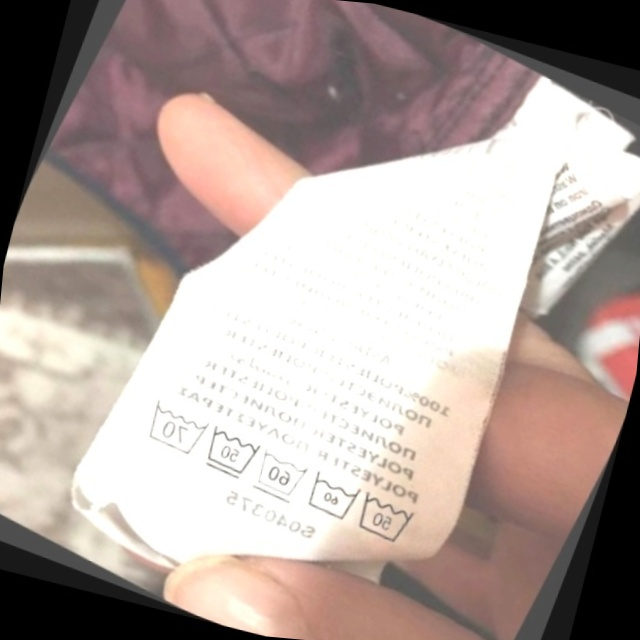50C: (340, 476, 430, 559), (188, 413, 271, 492)
60C: (239, 436, 318, 512), (291, 459, 370, 533)
70C: (128, 387, 218, 466)
